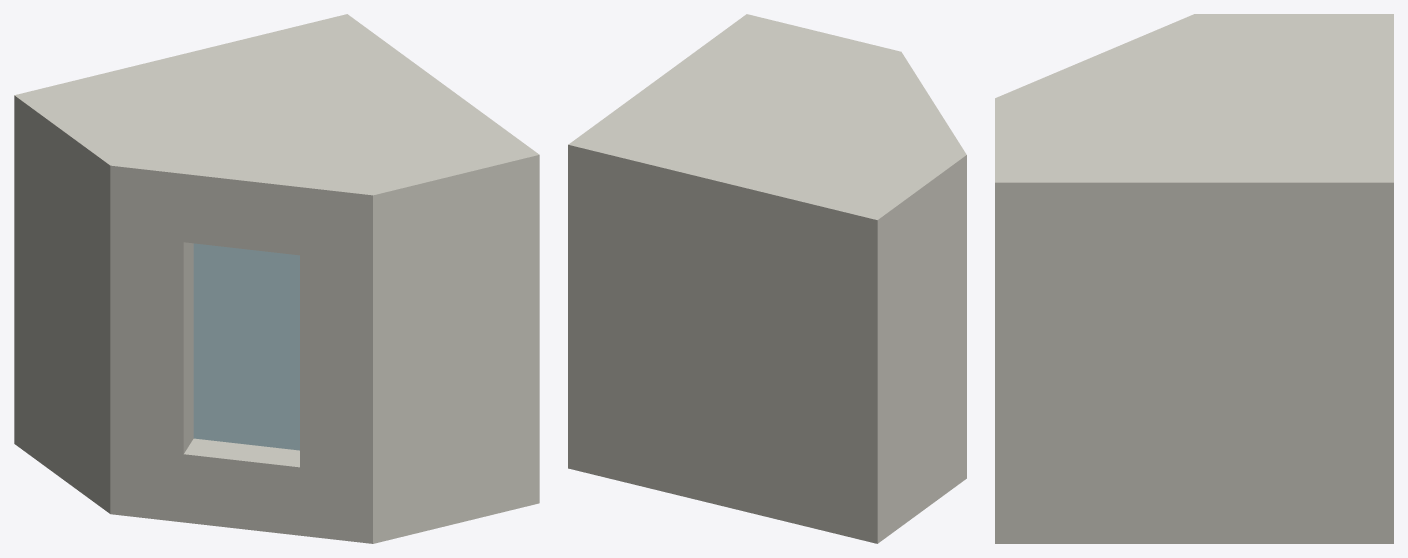
Rendered from Building Story 25.fbx.
3 renders of one model, left to right at view 1: azimuth 30°, elevation 25°; view 2: azimuth 150°, elevation 25°; view 3: azimuth 270°, elevation 25°, orthographic. The views are drawn at different scales.
Visible parts, largest first — view 1: Building Story 25; view 2: Building Story 25; view 3: Building Story 25.
Boxes of the visible parts, <box> form: Building Story 25: <box>14,14,539,543</box>; Building Story 25: <box>568,14,966,543</box>; Building Story 25: <box>995,14,1393,543</box>.
Bounding box in the file's own units: 1 × 1 × 1.
